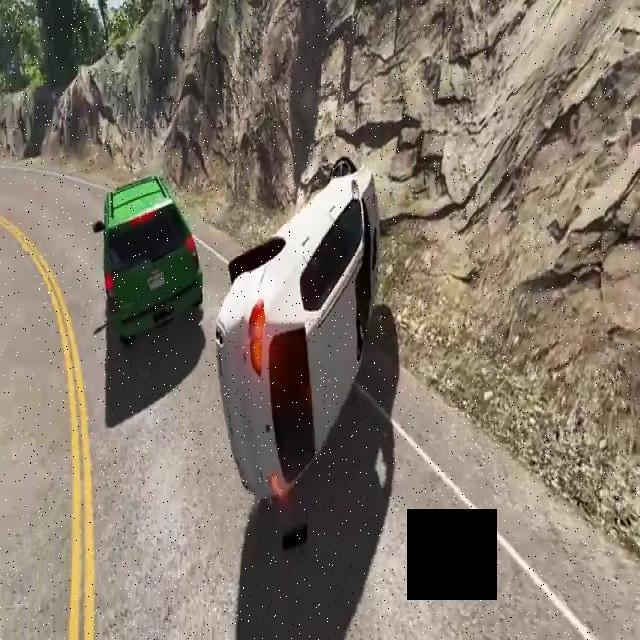normal: (90, 153, 233, 359)
single accident: (226, 171, 426, 413)
